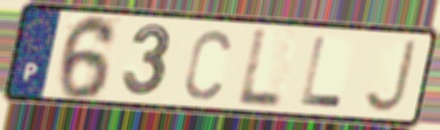3: (121, 21, 174, 100)
6: (54, 12, 121, 102)
C: (182, 27, 234, 103)
J: (361, 37, 420, 115)
L: (234, 27, 285, 110), (298, 34, 346, 110)
